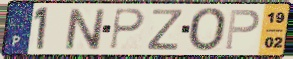1: (32, 5, 51, 53)
N: (64, 7, 106, 52)
O: (187, 7, 229, 54)
P: (108, 7, 147, 52), (223, 8, 262, 52)
Z: (145, 7, 186, 51)
